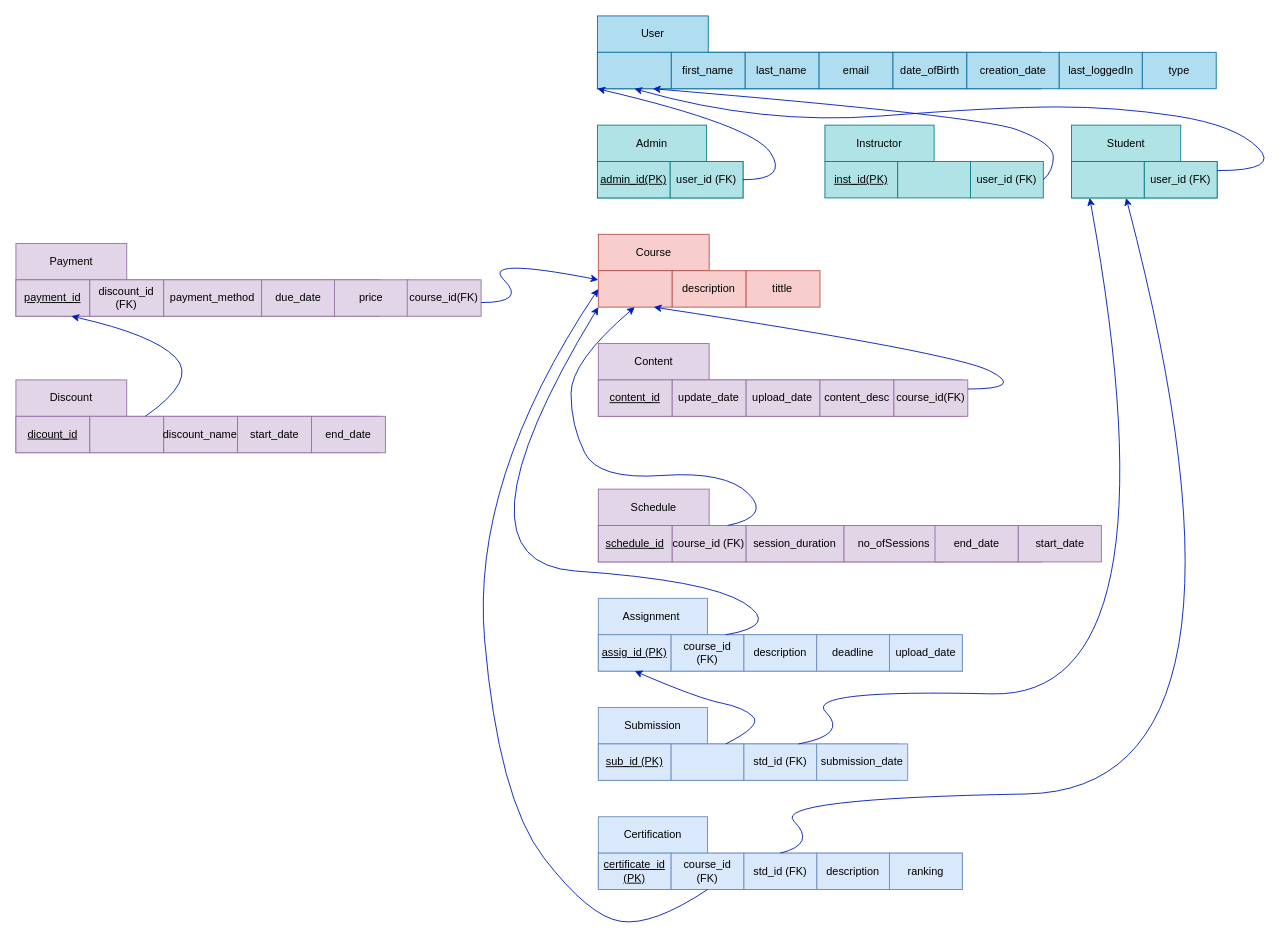
Some shapes in this 1280 by 938 pixel diagram are drawn without their labels. Each missing label, with the centre of its shape:
"assig_id (FK)" goes at [707,761].
"course_id" goes at [634,288].
"payment_id (FK)" goes at [126,434].
"specialization" goes at [934,179].
"std_id (PK)" goes at [1107,179].
"user_id (PK)" goes at [634,70].
